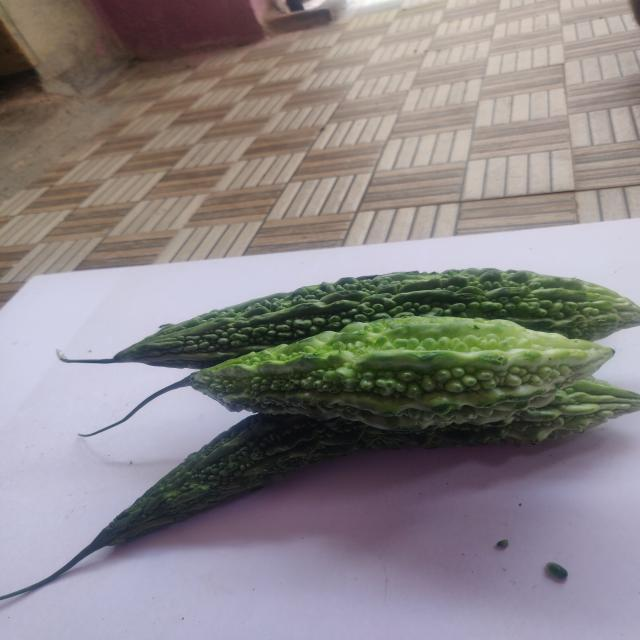Bitter Gourd: (0, 377, 640, 600), (68, 269, 640, 369), (188, 316, 614, 431)
